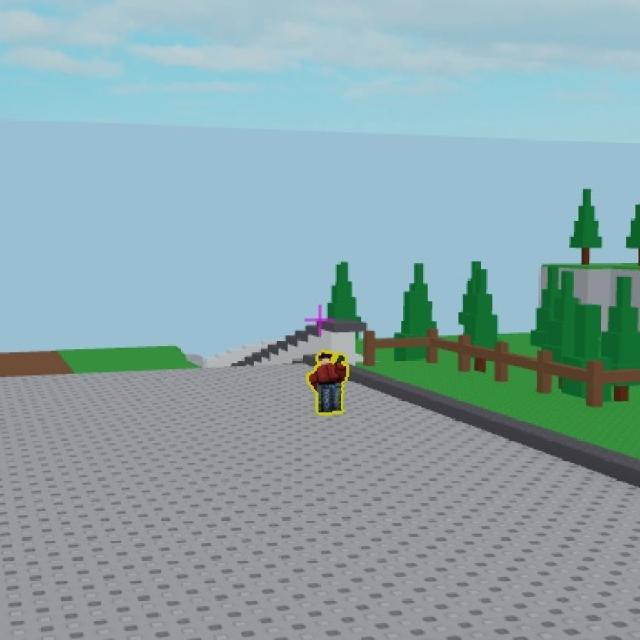player: (304, 346, 361, 421)
